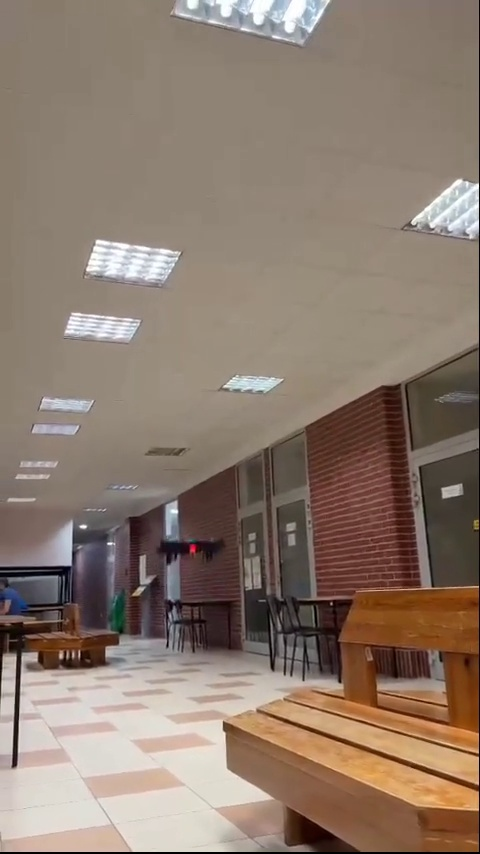drone: (157, 538, 226, 565)
no vest: (0, 575, 31, 629)
